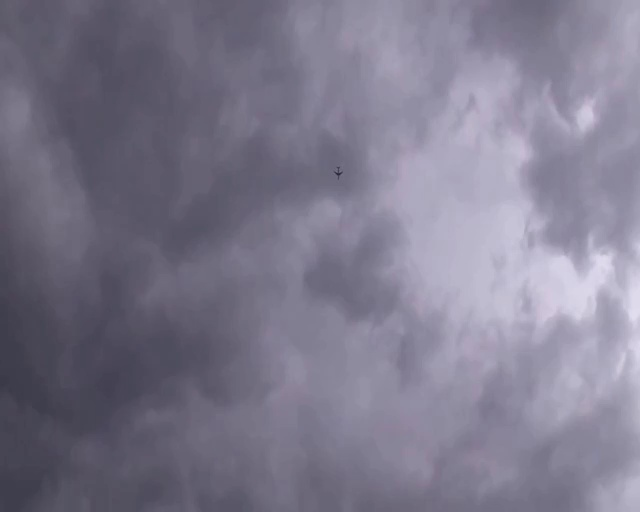AIRPLANE: (333, 165, 343, 178)
